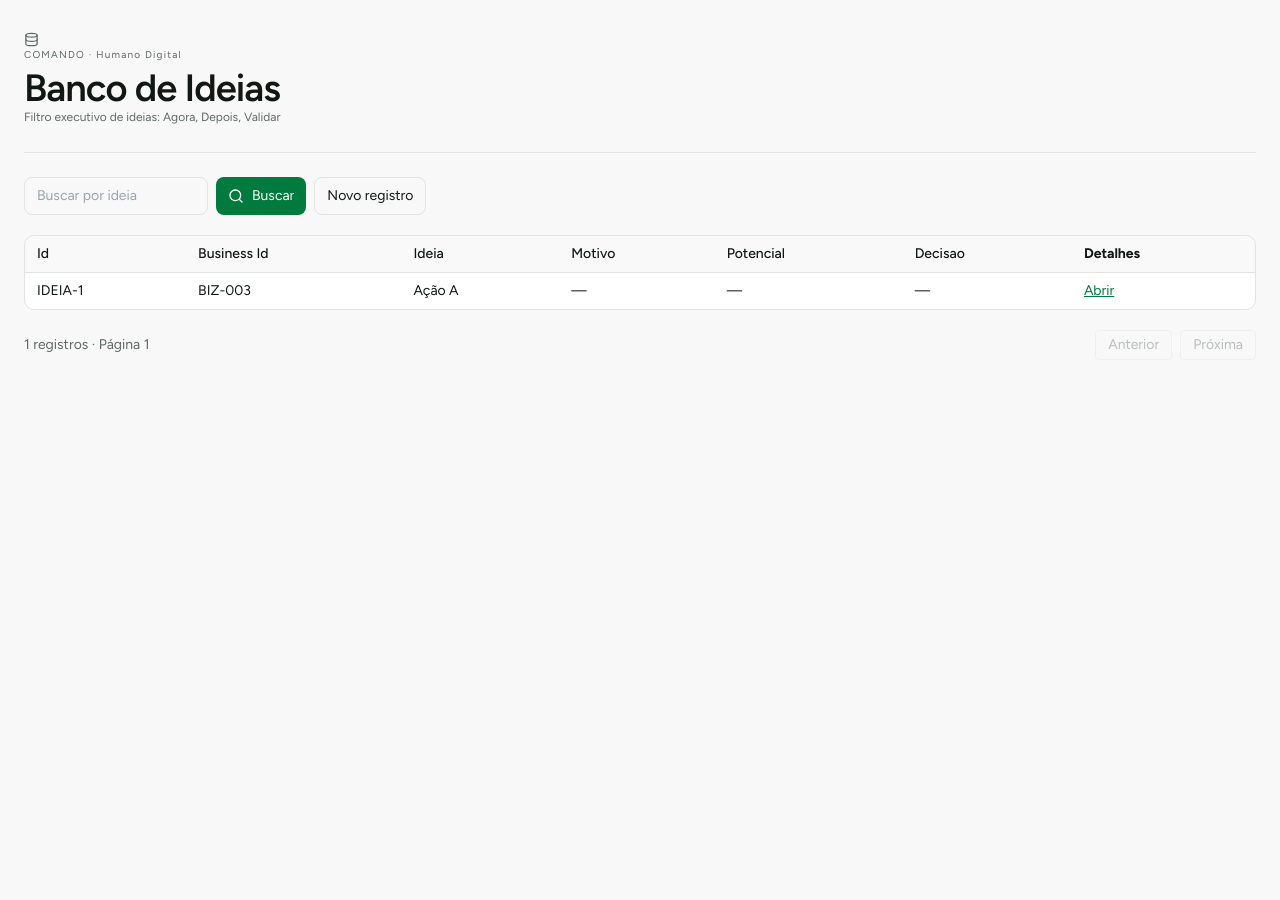
Módulo recuperado › preserves edit draft on version conflict
Click the button "Abrir".
click(1099, 290)  # box [1084, 280, 1114, 300]
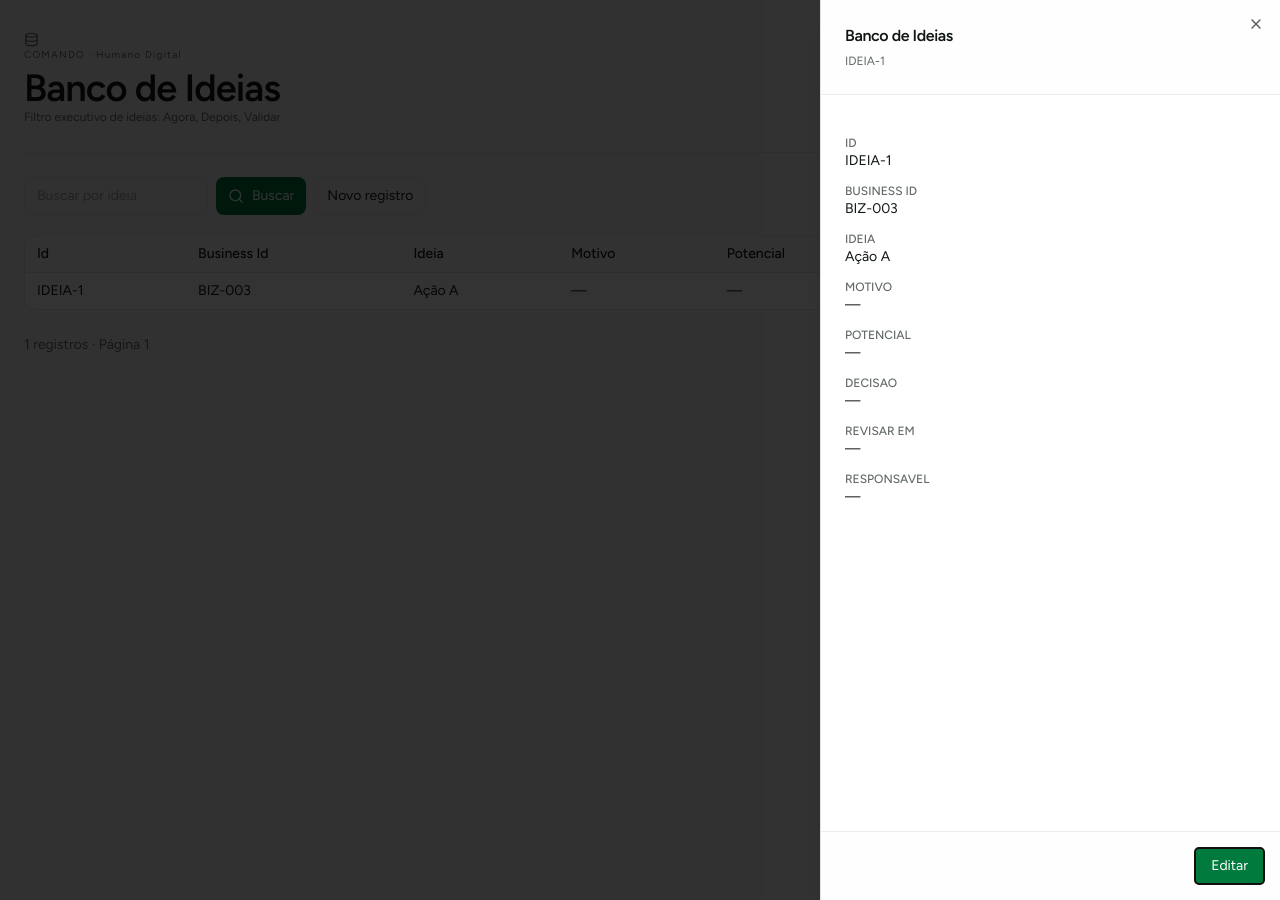
Click the button "Editar".
click(1230, 866)  # box [1195, 848, 1264, 884]
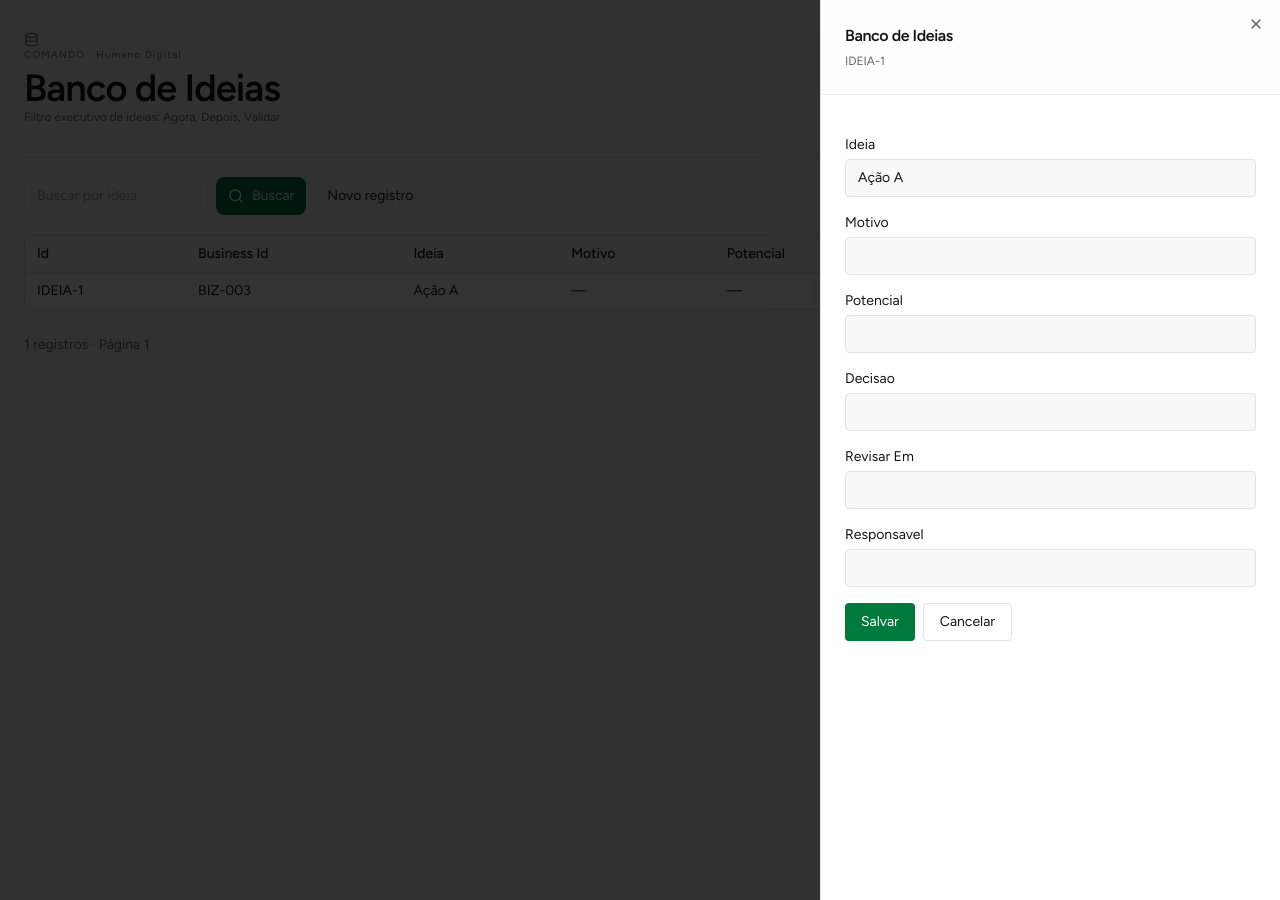
Replace the text in the field labelled "ideia" with "Ação B" at (1050, 178), box [845, 159, 1256, 197]
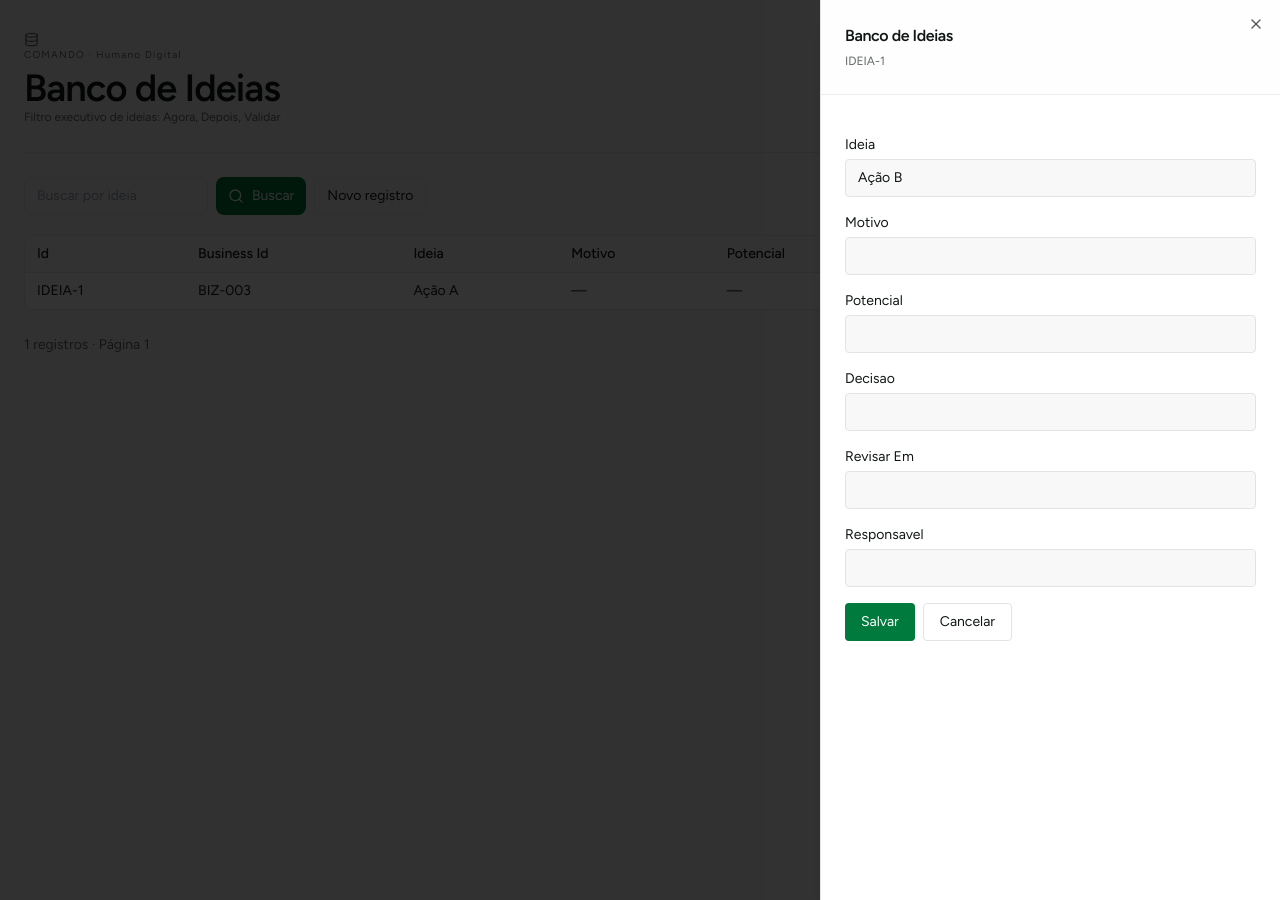
Click the button "Salvar".
click(880, 622)  # box [845, 603, 915, 641]
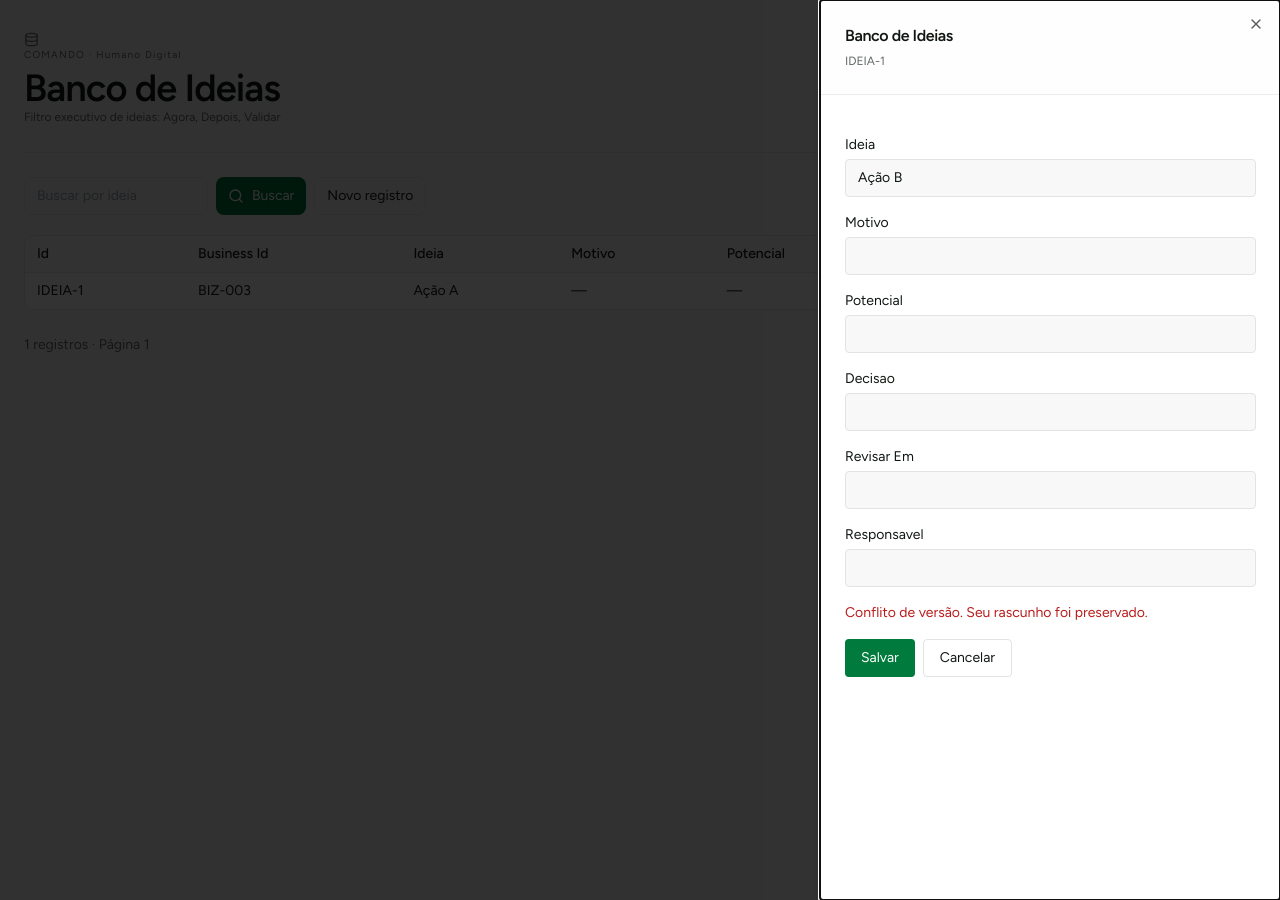
Expected: the text "Conflito de versão. Seu rascunho foi preservado." is shown, [845, 604, 1148, 621]
